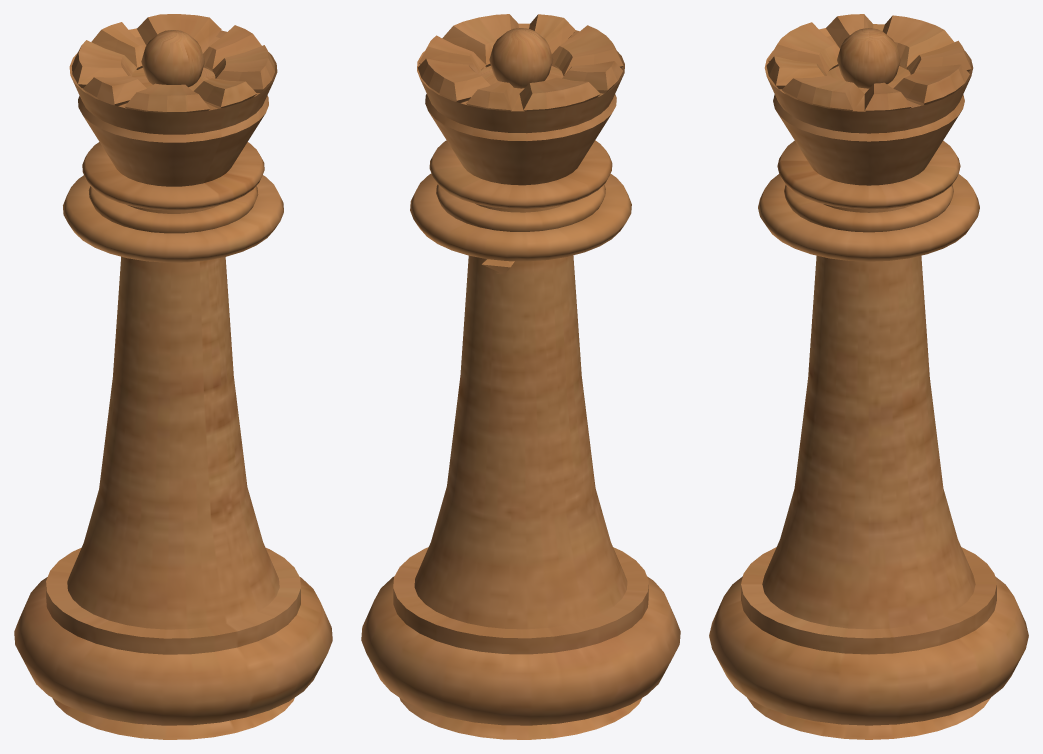
The model's file is WhiteQueen.FBX.
3 views of the same model, side by side, from view 1: azimuth 30°, elevation 25°; view 2: azimuth 150°, elevation 25°; view 3: azimuth 270°, elevation 25° (orthographic).
Visible parts, largest first — view 1: QueenW; view 2: QueenW; view 3: QueenW.
Boxes of the visible parts, x1=… form: QueenW: x1=14, y1=14, x2=332, y2=739; QueenW: x1=361, y1=14, x2=680, y2=739; QueenW: x1=709, y1=14, x2=1028, y2=739.
Size of the model in its own units: 0.1843 by 0.1843 by 0.4172.
1 material, 1 textured.
